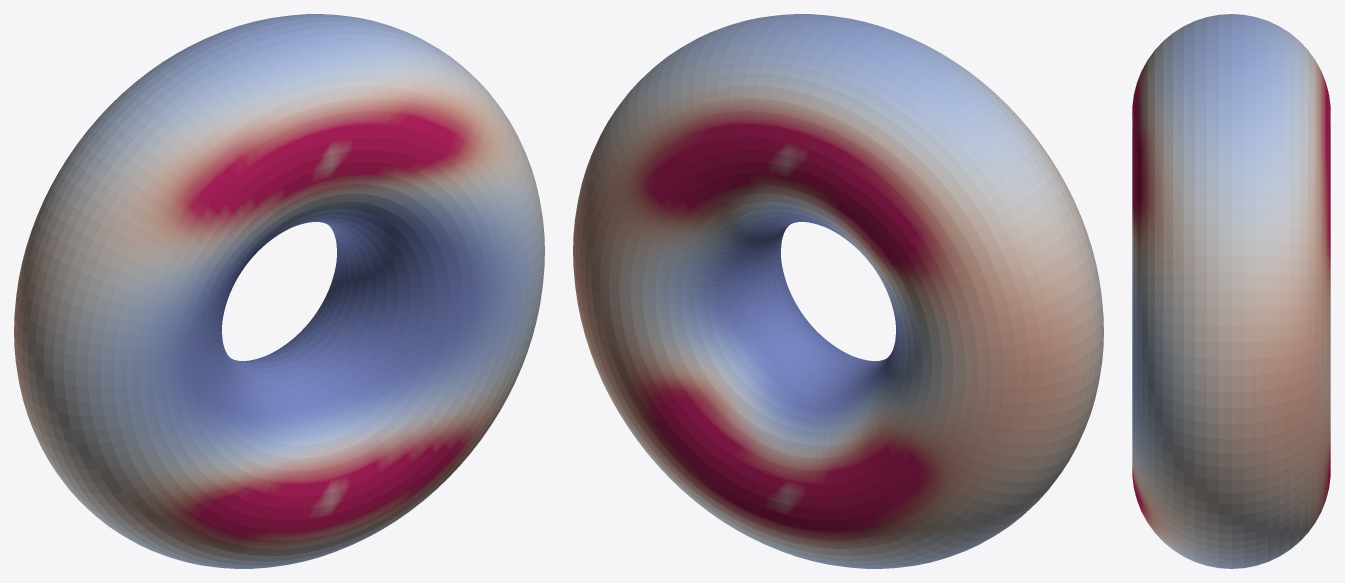
The picture shows the model from 3 angles, left to right: view 1: azimuth 30°, elevation 25°; view 2: azimuth 150°, elevation 25°; view 3: azimuth 270°, elevation 25°; orthographic projection. The views are drawn at different scales.
Parts seen in each view (by area): view 1: world; view 2: world; view 3: world.
Part boxes in pixels (x1,y1,x2,y2): world: [14, 14, 544, 568]; world: [573, 14, 1103, 568]; world: [1132, 14, 1330, 568].
Bounding box in the file's own units: 19.73 × 19.73 × 7.05.
